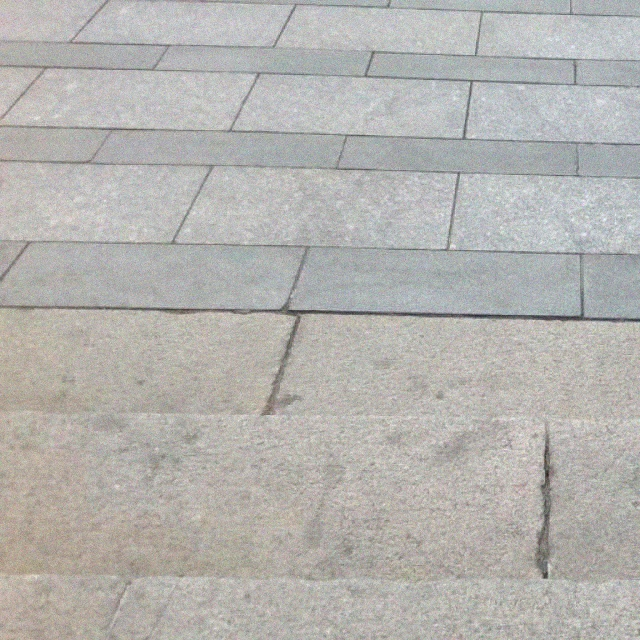stair: (6, 317, 640, 601)
